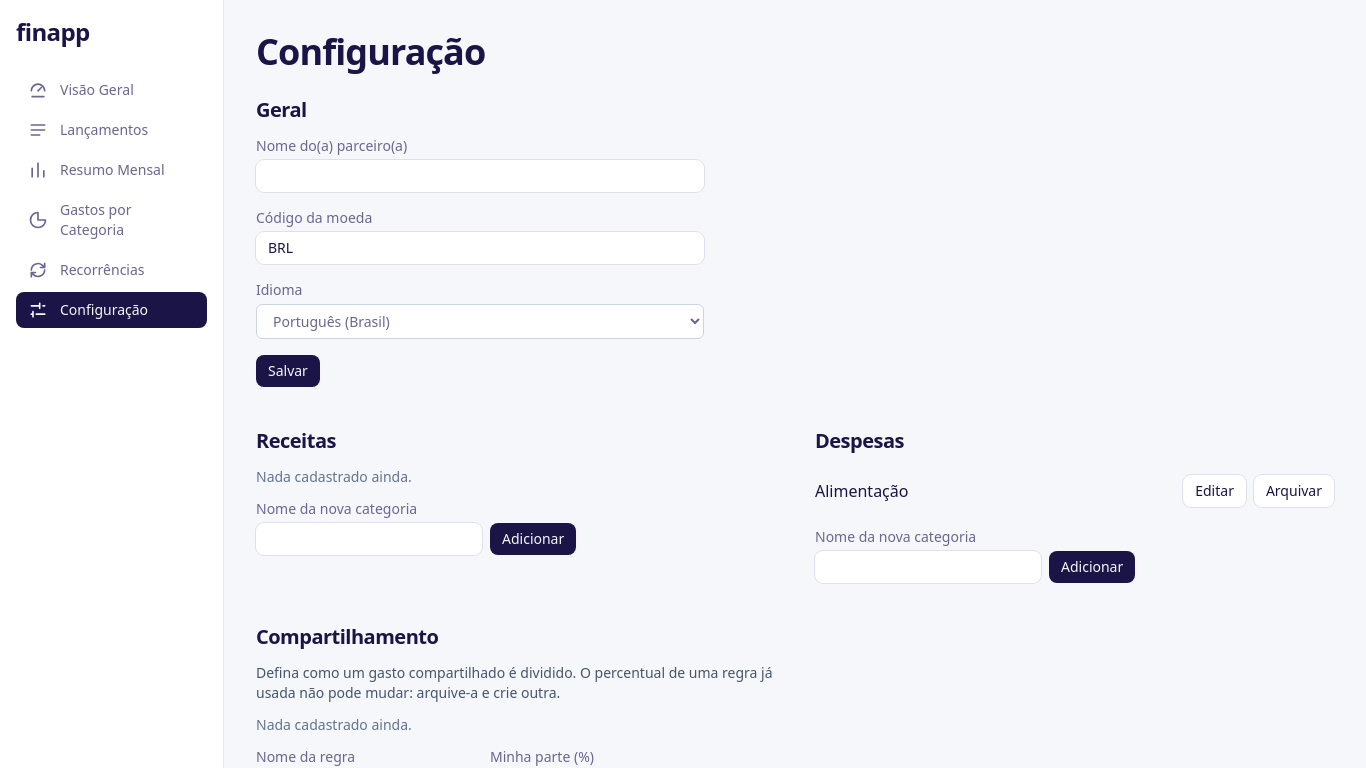
Test case: Categories › renames a category
Check: the heading "Configuração" is shown, box [256, 32, 485, 72]
Click the button with aria-label "Editar Alimentação": (1215, 491) [1183, 475, 1246, 507]
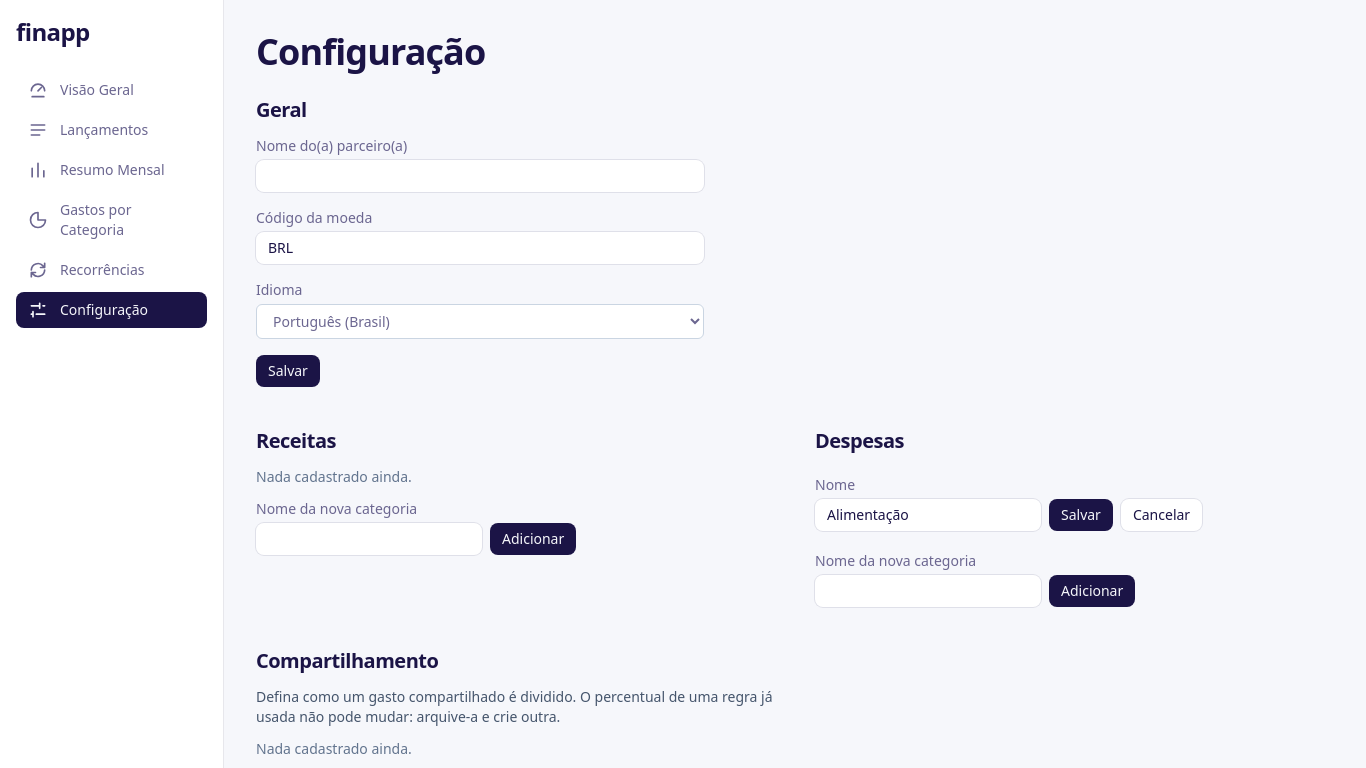
Replace the text in the field labelled "Nome" with "Mercado": (928, 515) [815, 499, 1041, 531]
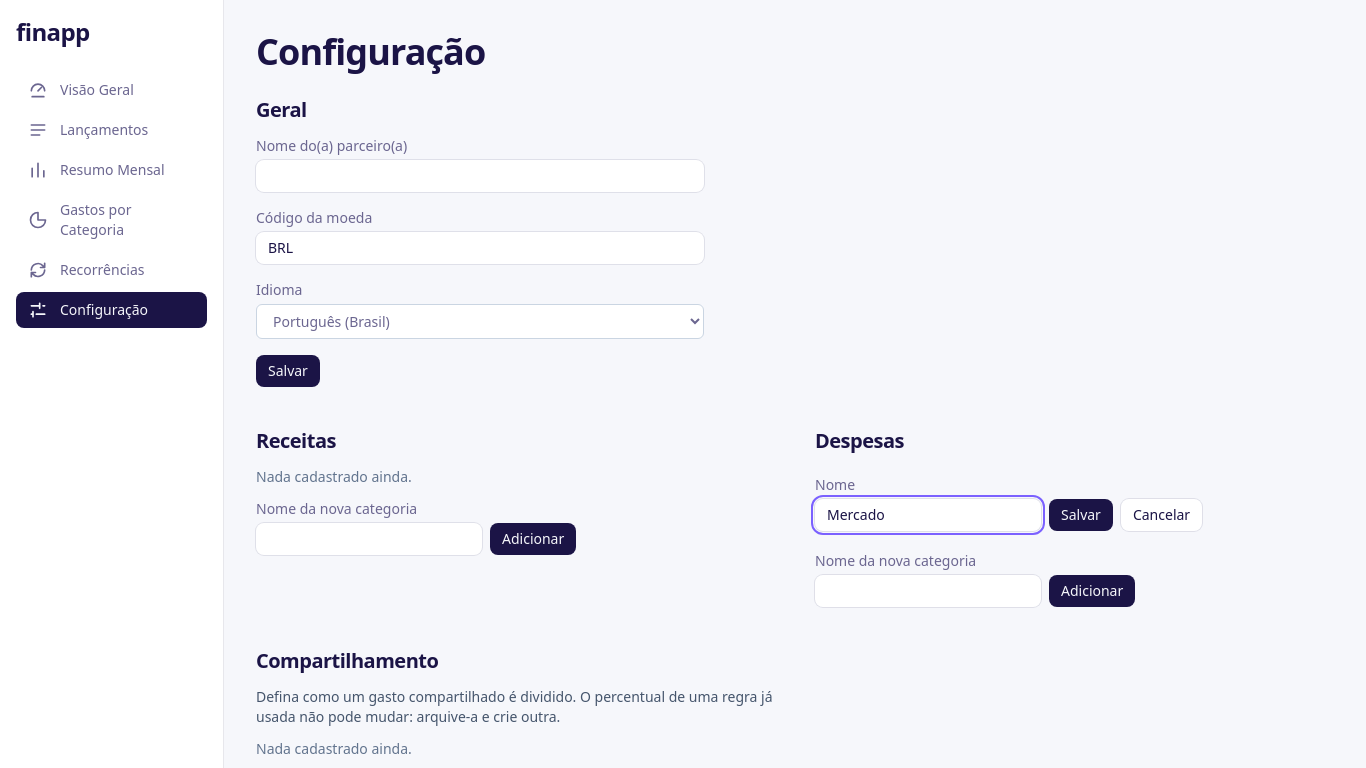
Click the button "Salvar" below "Despesas": (1081, 515) [1049, 499, 1113, 531]
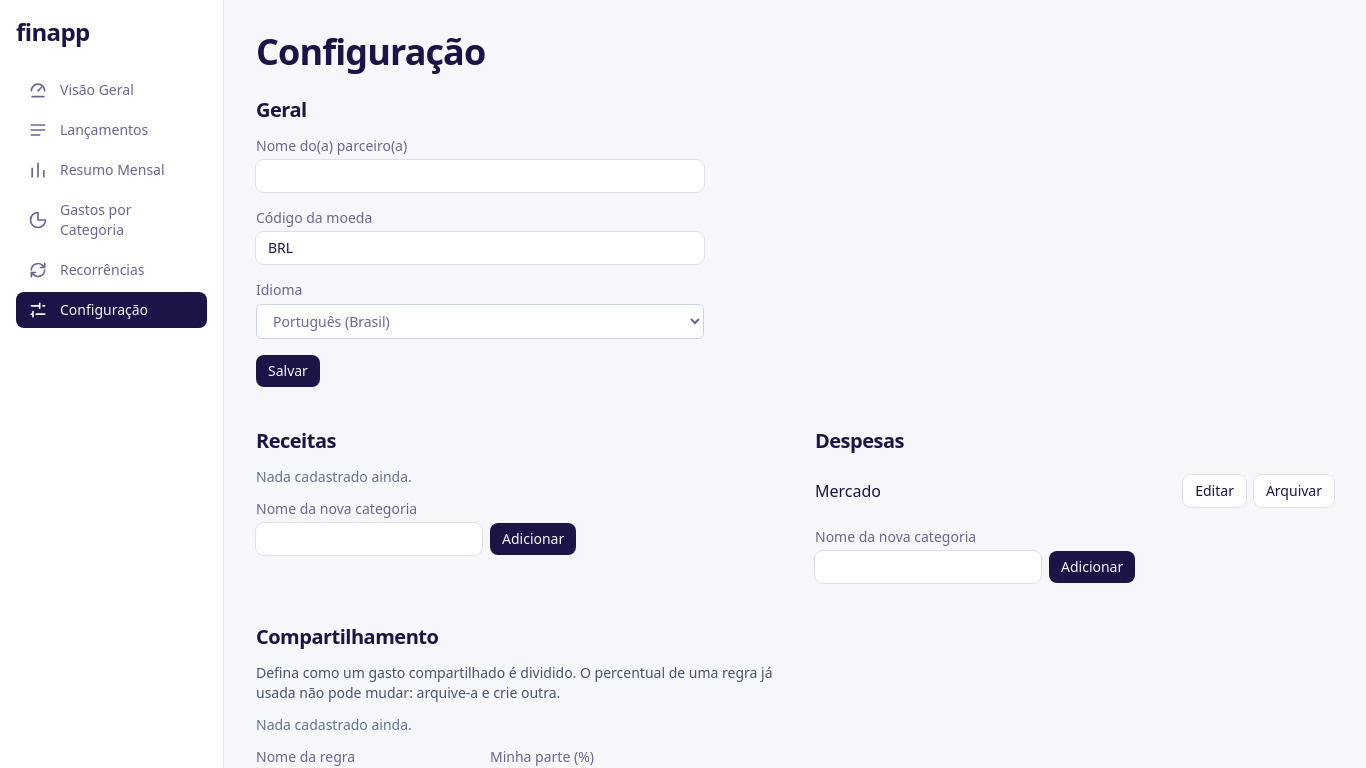
Check: the text "Alimentação" is not shown
Check: the text "Mercado" is shown, box [815, 479, 881, 503]
